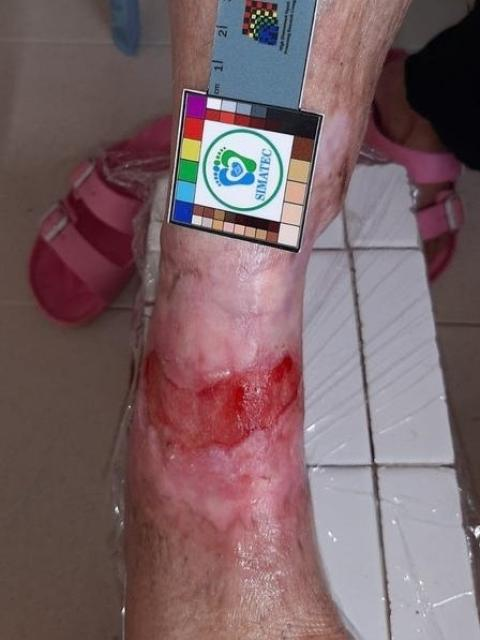wound: (142, 351, 302, 454)
